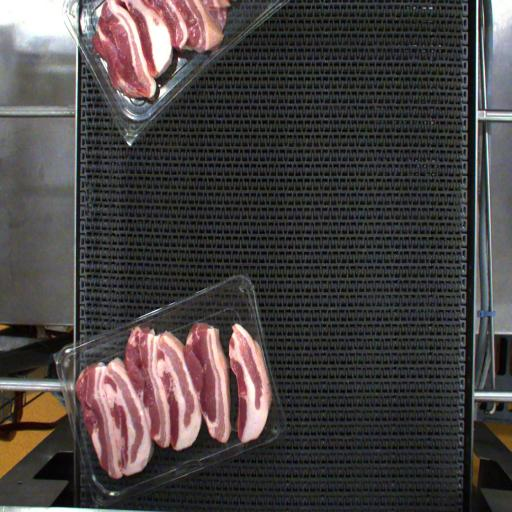loose-meat: (226, 313, 280, 448)
packaging-error: (126, 316, 153, 342)
